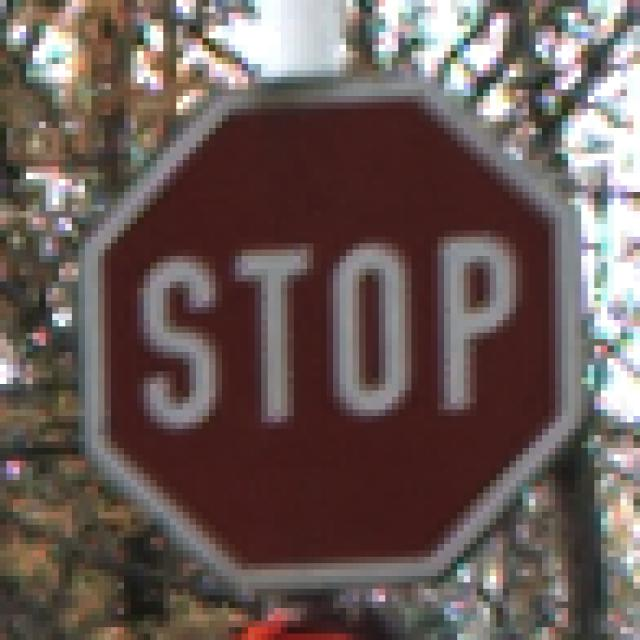STOP: (60, 53, 582, 584)
